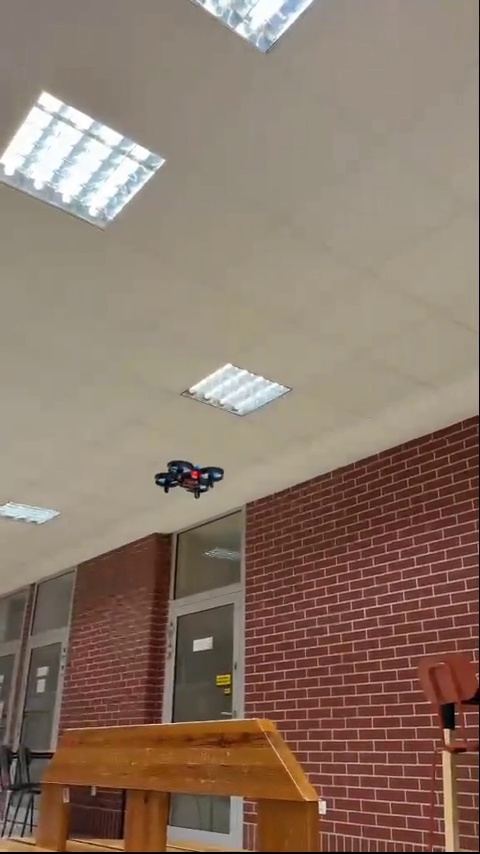drone: (150, 459, 229, 492)
